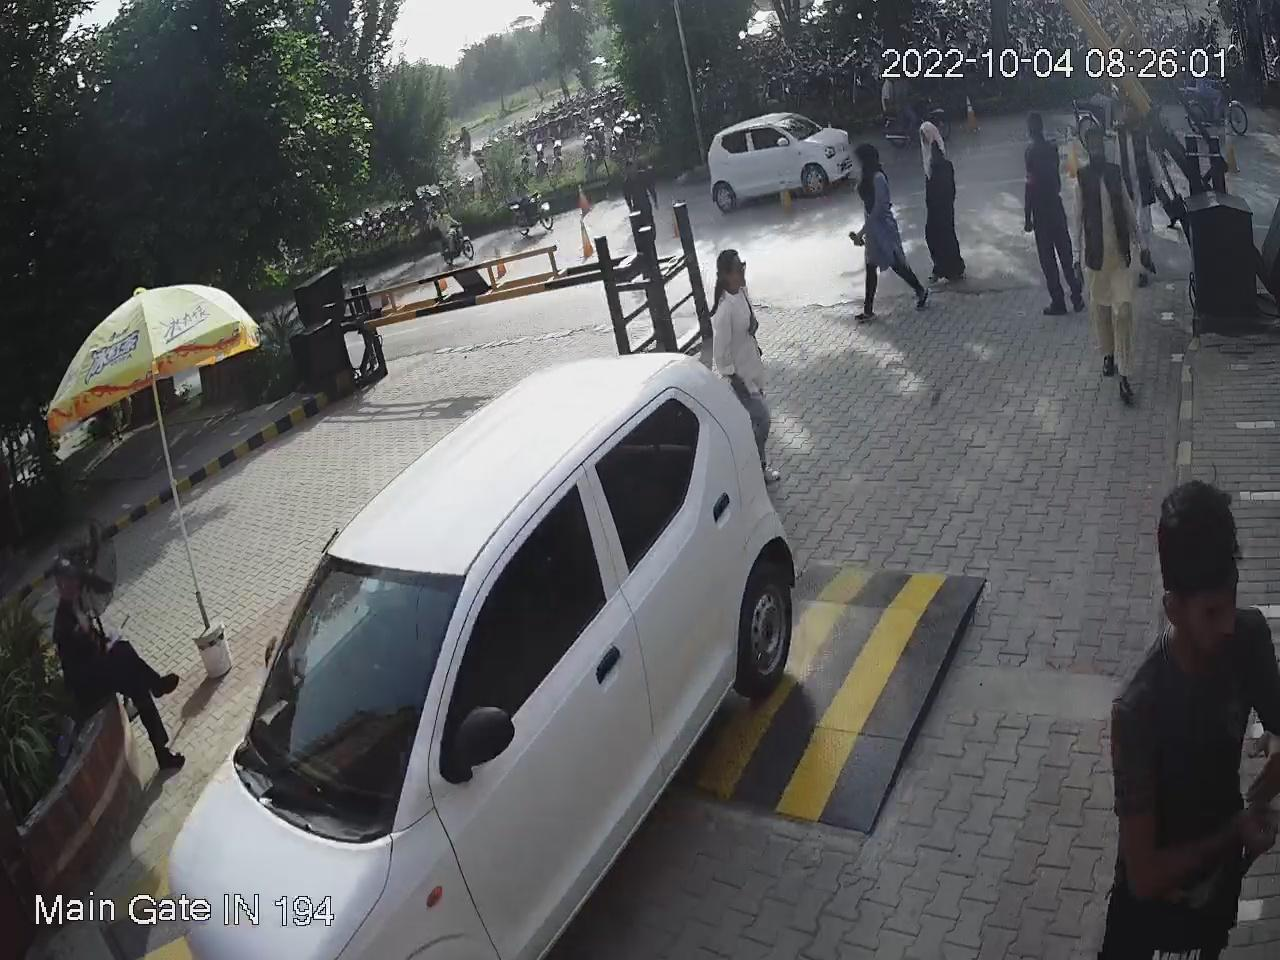windshield: (231, 553, 478, 847)
